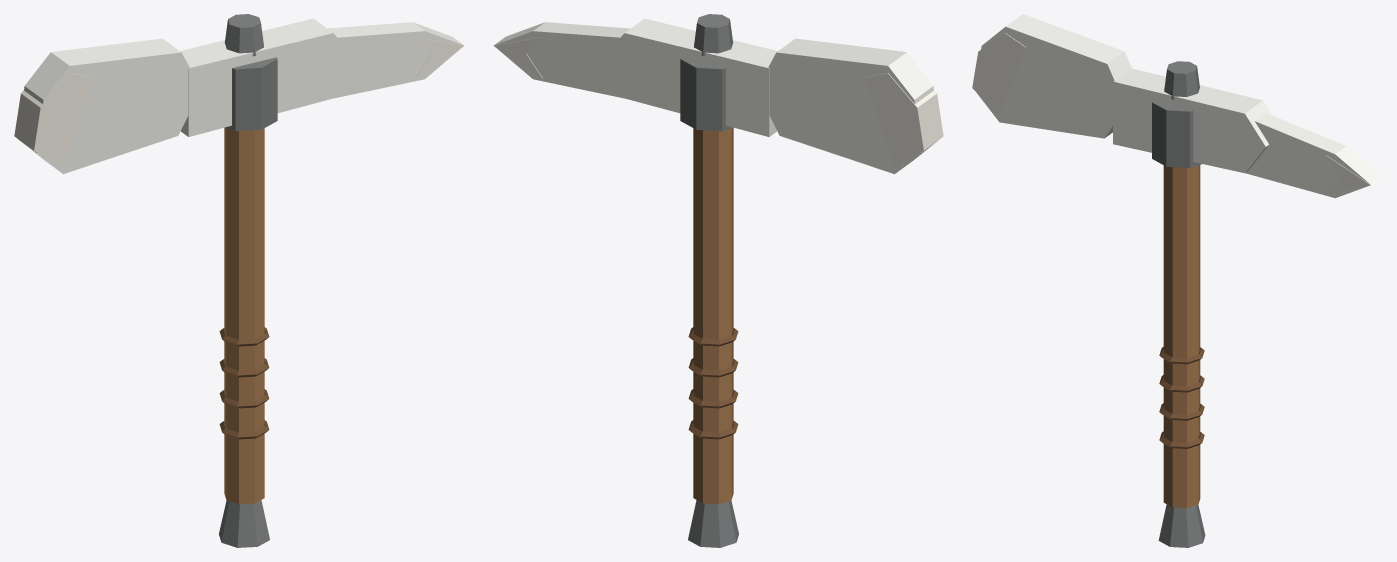
The model's file is t8_hammer.glb.
The picture shows the model from 3 angles, left to right: view 1: azimuth 30°, elevation 25°; view 2: azimuth 150°, elevation 25°; view 3: azimuth 330°, elevation 25°; orthographic projection. The views are drawn at different scales.
Parts seen in each view (by area): view 1: WoodHandle, HammerHead, HeadCore, ChiselPoint, HammerFace, HeadSocket, BottomPommel, TopCap, ChiselTip; view 2: WoodHandle, HammerHead, HeadCore, ChiselPoint, HammerFace, HeadSocket, BottomPommel, TopCap, ChiselTip; view 3: WoodHandle, HammerHead, HeadCore, ChiselPoint, HammerFace, HeadSocket, BottomPommel, TopCap, ChiselTip.
Part boxes in pixels (<box>): WoodHandle: <box>224,127,264,504</box>; HammerHead: <box>18,38,189,174</box>; HeadCore: <box>180,18,356,136</box>; ChiselPoint: <box>327,22,463,98</box>; HammerFace: <box>14,73,92,167</box>; HeadSocket: <box>225,57,277,131</box>; BottomPommel: <box>219,500,269,547</box>; TopCap: <box>224,14,263,56</box>; ChiselTip: <box>415,37,464,78</box>; WoodHandle: <box>693,127,733,504</box>; HammerHead: <box>768,38,939,174</box>; HeadCore: <box>601,18,777,136</box>; ChiselPoint: <box>494,22,630,98</box>; HammerFace: <box>865,73,943,167</box>; HeadSocket: <box>680,57,732,131</box>; BottomPommel: <box>688,500,738,547</box>; TopCap: <box>694,14,733,56</box>; ChiselTip: <box>493,37,542,78</box>; WoodHandle: <box>1163,165,1200,508</box>; HammerHead: <box>976,14,1131,138</box>; HeadCore: <box>1113,68,1272,173</box>; ChiselPoint: <box>1245,113,1381,198</box>; HammerFace: <box>972,33,1026,116</box>; HeadSocket: <box>1152,100,1201,167</box>; BottomPommel: <box>1158,504,1205,547</box>; TopCap: <box>1164,61,1199,99</box>; ChiselTip: <box>1326,155,1382,192</box>.
Size of the model in its own units: 1.32 by 1.52 by 0.18.
